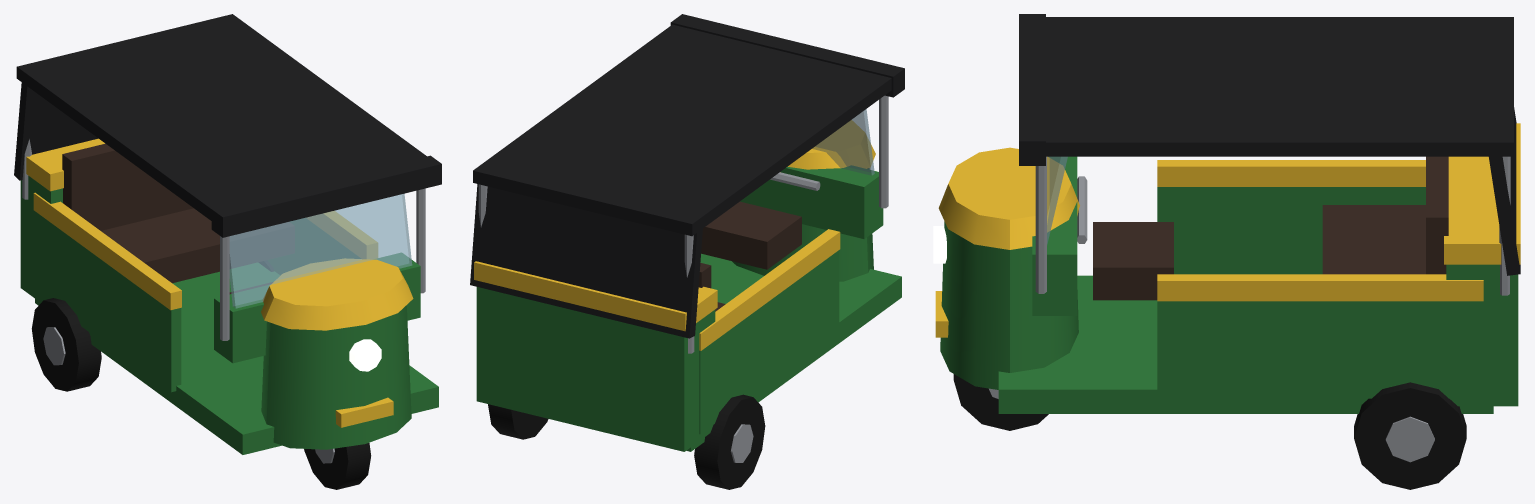
Rendered from rickshaw.glb.
The picture shows the model from 3 angles, left to right: view 1: azimuth 30°, elevation 25°; view 2: azimuth 150°, elevation 25°; view 3: azimuth 270°, elevation 25°; orthographic projection. The views are drawn at different scales.
Visible parts, largest first — view 1: Rickshaw; view 2: Rickshaw; view 3: Rickshaw.
Boxes of the visible parts, x1,y1,x2,y2 form: Rickshaw: (14,14,441,489); Rickshaw: (470,14,904,489); Rickshaw: (933,14,1520,489).
Bounding box in the file's own units: 1.4 × 1.7 × 2.61.
